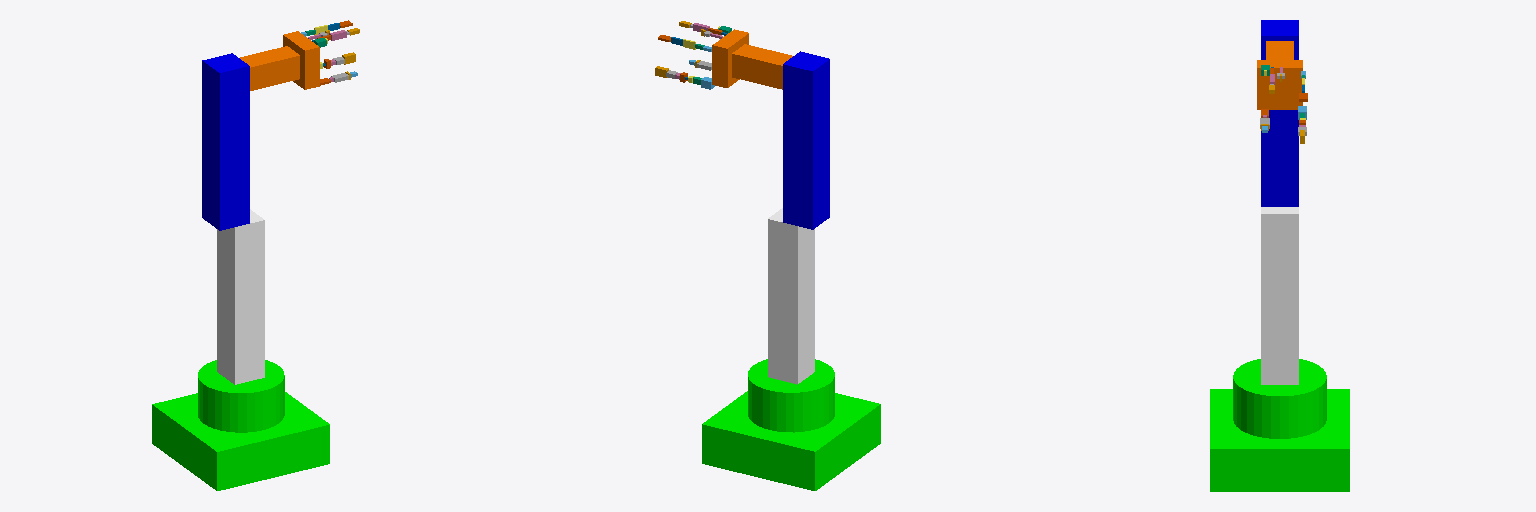
--- Render facts (derived) ---
The picture shows the robot from 3 angles, left to right: view 1: azimuth 30°, elevation 25°; view 2: azimuth 150°, elevation 25°; view 3: azimuth 270°, elevation 25°; orthographic projection.
Robot: robot — 33 links, 32 joints (29 revolute, 1 continuous, 2 fixed); root link base_link; default pose: every joint at zero.
Links seen in each view (by area): view 1: base_link, arm_link, support_link, wrist_link, palm_link; view 2: base_link, arm_link, support_link, wrist_link, palm_link; view 3: base_link, support_link, arm_link, palm_link, wrist_link.
Link boxes in pixels (x1,y1,x2,y2): base_link: [152, 360, 329, 490]; arm_link: [202, 53, 249, 230]; support_link: [217, 209, 264, 384]; wrist_link: [240, 46, 299, 90]; palm_link: [283, 31, 319, 89]; base_link: [702, 359, 880, 490]; arm_link: [783, 51, 829, 229]; support_link: [768, 208, 814, 384]; wrist_link: [732, 44, 792, 89]; palm_link: [712, 29, 748, 87]; base_link: [1210, 359, 1349, 491]; support_link: [1261, 207, 1298, 384]; arm_link: [1261, 20, 1298, 206]; palm_link: [1257, 60, 1302, 109]; wrist_link: [1266, 41, 1293, 59].
Bounding box of the posed robot: 1.2 × 0.75 × 2.54 m (x, y, z).
Geometry: primitives only (box / cylinder / sphere), no mesh files.

URDF robot description (robot):
<?xml version='1.0' encoding='utf-8'?>
<robot name="robot">
  <link name="base_link">
    <visual>
      <origin xyz="0 0 0.125" rpy="0 0 0" />
      <geometry>
        <box size="0.75 0.75 0.25" />
      </geometry>
      <material name="green" />
    </visual>
    <visual>
      <origin xyz="0 0 0.375" rpy="0 0 0" />
      <geometry>
        <cylinder length="0.25" radius="0.25" />
      </geometry>
      <material name="green">
        <color rgba="0 1 0 1" />
      </material>
    </visual>
    <collision>
      <geometry>
        <box size="0.75 0.75 0.5" />
      </geometry>
    </collision>
    <inertial>
      <mass value="0.5" />
      <inertia ixx="0.034" ixy="0.0" ixz="0.0" iyy="0.034" iyz="0.0" izz="0.034" />
    </inertial>
  </link>
  <link name="support_link">
    <visual>
      <origin xyz="0 0 0.5" rpy="0 0 0" />
      <geometry>
        <box size="0.2 0.2 1" />
      </geometry>
      <material name="white">
        <color rgba="1 1 1 1" />
      </material>
    </visual>
    <collision>
      <geometry>
        <box size="0.2 0.2 1" />
      </geometry>
    </collision>
    <inertial>
      <mass value="0.1" />
      <inertia ixx="0.01" ixy="0.0" ixz="0.0" iyy="0.01" iyz="0.0" izz="0.01" />
    </inertial>
  </link>
  <joint name="support_joint" type="continuous">
    <origin xyz="0 0 0.5" rpy="0 0 0" />
    <parent link="base_link" />
    <child link="support_link" />
    <axis xyz="0 0 1" />
  </joint>
  <link name="arm_link">
    <visual>
      <origin xyz="0 0 0.5" rpy="0 0 0" />
      <geometry>
        <box size="0.2 0.2 1" />
      </geometry>
      <material name="blue">
        <color rgba="0 0 1 1" />
      </material>
    </visual>
    <collision>
      <geometry>
        <box size="0.2 0.2 1" />
      </geometry>
    </collision>
    <inertial>
      <mass value="0.1" />
      <inertia ixx="0.01" ixy="0.0" ixz="0.0" iyy="0.01" iyz="0.0" izz="0.01" />
    </inertial>
  </link>
  <joint name="arm_joint" type="revolute">
    <origin xyz="-0.1 0 1" rpy="0 0 0" />
    <parent link="support_link" />
    <child link="arm_link" />
    <axis xyz="0 1 0" />
    <limit lower="-3.14" upper="3.14" effort="1.0" velocity="1.0" />
  </joint>
  <link name="wrist_link">
    <visual>
      <origin xyz="0 0 0.25" rpy="0 0 0" />
      <geometry>
        <box size="0.15 0.15 0.5" />
      </geometry>
      <material name="orange">
        <color rgba="1 0.5 0 1" />
      </material>
    </visual>
    <collision>
      <geometry>
        <box size="0.15 0.15 0.5" />
      </geometry>
    </collision>
    <inertial>
      <mass value="0.1" />
      <inertia ixx="0.01" ixy="0.0" ixz="0.0" iyy="0.01" iyz="0.0" izz="0.01" />
    </inertial>
  </link>
  <joint name="wrist_joint" type="fixed">
    <origin xyz="0 0 0.9" rpy="0 1.571 0" />
    <parent link="arm_link" />
    <child link="wrist_link" />
  </joint>
  <link name="palm_link">
    <visual>
      <origin xyz="0 0 0.05" rpy="0 0 0" />
      <geometry>
        <box size="0.25 0.25 0.1" />
      </geometry>
      <material name="orange" />
    </visual>
    <collision>
      <geometry>
        <box size="0.25 0.25 0.1" />
      </geometry>
    </collision>
    <inertial>
      <mass value="0.1" />
      <inertia ixx="0.01" ixy="0.0" ixz="0.0" iyy="0.01" iyz="0.0" izz="0.01" />
    </inertial>
  </link>
  <joint name="palm_joint" type="fixed">
    <origin xyz="0 0 0.45" rpy="0 0 0" />
    <parent link="wrist_link" />
    <child link="palm_link" />
  </joint>
  <link name="finger_link_0_0">
    <visual>
      <origin xyz="0 0 0.0445" rpy="0 0 0" />
      <geometry>
        <box size="0.013 0.047 0.089" />
      </geometry>
    </visual>
    <collision>
      <geometry>
        <box size="0.013 0.047 0.089" />
      </geometry>
    </collision>
    <inertial>
      <mass value="0.016" />
      <inertia ixx="0.0" iyy="0.0" izz="0.0" ixy="0" ixz="0" iyz="0" />
    </inertial>
  </link>
  <joint name="finger_joint_palm_link_to_finger_link_0_0" type="revolute">
    <origin xyz="0.125 -0.08 0.1" rpy="0 0 0" />
    <parent link="palm_link" />
    <child link="finger_link_0_0" />
    <axis xyz="1.0 1.0 0.0" />
    <limit lower="-3.142" upper="3.142" effort="10" velocity="10" />
  </joint>
  <link name="finger_link_0_1">
    <visual>
      <origin xyz="0 0 0.013" rpy="0 0 0" />
      <geometry>
        <box size="0.025 0.017 0.026" />
      </geometry>
    </visual>
    <collision>
      <geometry>
        <box size="0.025 0.017 0.026" />
      </geometry>
    </collision>
    <inertial>
      <mass value="0.003" />
      <inertia ixx="0.0" iyy="0.0" izz="0.0" ixy="0" ixz="0" iyz="0" />
    </inertial>
  </link>
  <joint name="finger_joint_finger_link_0_0_to_finger_link_0_1" type="revolute">
    <origin xyz="0.0 0.0 0.089" rpy="0 0 0" />
    <parent link="finger_link_0_0" />
    <child link="finger_link_0_1" />
    <axis xyz="1.0 0.0 0.0" />
    <limit lower="-3.142" upper="3.142" effort="10" velocity="10" />
  </joint>
  <link name="finger_link_0_2">
    <visual>
      <origin xyz="0 0 0.046" rpy="0 0 0" />
      <geometry>
        <box size="0.023 0.05 0.092" />
      </geometry>
    </visual>
    <collision>
      <geometry>
        <box size="0.023 0.05 0.092" />
      </geometry>
    </collision>
    <inertial>
      <mass value="0.032" />
      <inertia ixx="0.0" iyy="0.0" izz="0.0" ixy="0" ixz="0" iyz="0" />
    </inertial>
  </link>
  <joint name="finger_joint_finger_link_0_1_to_finger_link_0_2" type="revolute">
    <origin xyz="0.0 0.0 0.026" rpy="0 0 0" />
    <parent link="finger_link_0_1" />
    <child link="finger_link_0_2" />
    <axis xyz="1.0 1.0 0.0" />
    <limit lower="-3.142" upper="3.142" effort="10" velocity="10" />
  </joint>
  <link name="finger_link_0_3">
    <visual>
      <origin xyz="0 0 0.0065" rpy="0 0 0" />
      <geometry>
        <box size="0.036 0.039 0.013" />
      </geometry>
    </visual>
    <collision>
      <geometry>
        <box size="0.036 0.039 0.013" />
      </geometry>
    </collision>
    <inertial>
      <mass value="0.005" />
      <inertia ixx="0.0" iyy="0.0" izz="0.0" ixy="0" ixz="0" iyz="0" />
    </inertial>
  </link>
  <joint name="finger_joint_finger_link_0_2_to_finger_link_0_3" type="revolute">
    <origin xyz="0.0 0.0 0.092" rpy="0 0 0" />
    <parent link="finger_link_0_2" />
    <child link="finger_link_0_3" />
    <axis xyz="0.0 1.0 0.0" />
    <limit lower="-3.142" upper="3.142" effort="10" velocity="10" />
  </joint>
  <link name="finger_link_0_4">
    <visual>
      <origin xyz="0 0 0.024" rpy="0 0 0" />
      <geometry>
        <box size="0.02 0.027 0.048" />
      </geometry>
    </visual>
    <collision>
      <geometry>
        <box size="0.02 0.027 0.048" />
      </geometry>
    </collision>
    <inertial>
      <mass value="0.008" />
      <inertia ixx="0.0" iyy="0.0" izz="0.0" ixy="0" ixz="0" iyz="0" />
    </inertial>
  </link>
  <joint name="finger_joint_finger_link_0_3_to_finger_link_0_4" type="revolute">
    <origin xyz="0.0 0.0 0.013" rpy="0 0 0" />
    <parent link="finger_link_0_3" />
    <child link="finger_link_0_4" />
    <axis xyz="0.0 1.0 0.0" />
    <limit lower="-3.142" upper="3.142" effort="10" velocity="10" />
  </joint>
  <link name="finger_link_1_0">
    <visual>
      <origin xyz="0 0 0.0315" rpy="0 0 0" />
      <geometry>
        <box size="0.035 0.046 0.063" />
      </geometry>
    </visual>
    <collision>
      <geometry>
        <box size="0.035 0.046 0.063" />
      </geometry>
    </collision>
    <inertial>
      <mass value="0.03" />
      <inertia ixx="0.0" iyy="0.0" izz="0.0" ixy="0" ixz="0" iyz="0" />
    </inertial>
  </link>
  <joint name="finger_joint_palm_link_to_finger_link_1_0" type="revolute">
    <origin xyz="-0.125 -0.078 0.1" rpy="0 0 0" />
    <parent link="palm_link" />
    <child link="finger_link_1_0" />
    <axis xyz="1.0 1.0 0.0" />
    <limit lower="-3.142" upper="3.142" effort="10" velocity="10" />
  </joint>
  <link name="finger_link_1_1">
    <visual>
      <origin xyz="0 0 0.0065" rpy="0 0 0" />
      <geometry>
        <box size="0.03 0.019 0.013" />
      </geometry>
    </visual>
    <collision>
      <geometry>
        <box size="0.03 0.019 0.013" />
      </geometry>
    </collision>
    <inertial>
      <mass value="0.002" />
      <inertia ixx="0.0" iyy="0.0" izz="0.0" ixy="0" ixz="0" iyz="0" />
    </inertial>
  </link>
  <joint name="finger_joint_finger_link_1_0_to_finger_link_1_1" type="revolute">
    <origin xyz="0.0 0.0 0.063" rpy="0 0 0" />
    <parent link="finger_link_1_0" />
    <child link="finger_link_1_1" />
    <axis xyz="1.0 1.0 0.0" />
    <limit lower="-3.142" upper="3.142" effort="10" velocity="10" />
  </joint>
  <link name="finger_link_2_0">
    <visual>
      <origin xyz="0 0 0.0165" rpy="0 0 0" />
      <geometry>
        <box size="0.012 0.016 0.033" />
      </geometry>
    </visual>
    <collision>
      <geometry>
        <box size="0.012 0.016 0.033" />
      </geometry>
    </collision>
    <inertial>
      <mass value="0.002" />
      <inertia ixx="0.0" iyy="0.0" izz="0.0" ixy="0" ixz="0" iyz="0" />
    </inertial>
  </link>
  <joint name="finger_joint_palm_link_to_finger_link_2_0" type="revolute">
    <origin xyz="-0.125 -0.042 0.1" rpy="0 0 0" />
    <parent link="palm_link" />
    <child link="finger_link_2_0" />
    <axis xyz="0.0 1.0 0.0" />
    <limit lower="-3.142" upper="3.142" effort="10" velocity="10" />
  </joint>
  <link name="finger_link_2_1">
    <visual>
      <origin xyz="0 0 0.043" rpy="0 0 0" />
      <geometry>
        <box size="0.025 0.018 0.086" />
      </geometry>
    </visual>
    <collision>
      <geometry>
        <box size="0.025 0.018 0.086" />
      </geometry>
    </collision>
    <inertial>
      <mass value="0.012" />
      <inertia ixx="0.0" iyy="0.0" izz="0.0" ixy="0" ixz="0" iyz="0" />
    </inertial>
  </link>
  <joint name="finger_joint_finger_link_2_0_to_finger_link_2_1" type="revolute">
    <origin xyz="0.0 0.0 0.033" rpy="0 0 0" />
    <parent link="finger_link_2_0" />
    <child link="finger_link_2_1" />
    <axis xyz="1.0 0.0 0.0" />
    <limit lower="-3.142" upper="3.142" effort="10" velocity="10" />
  </joint>
  <link name="finger_link_2_2">
    <visual>
      <origin xyz="0 0 0.049" rpy="0 0 0" />
      <geometry>
        <box size="0.039 0.027 0.098" />
      </geometry>
    </visual>
    <collision>
      <geometry>
        <box size="0.039 0.027 0.098" />
      </geometry>
    </collision>
    <inertial>
      <mass value="0.031" />
      <inertia ixx="0.0" iyy="0.0" izz="0.0" ixy="0" ixz="0" iyz="0" />
    </inertial>
  </link>
  <joint name="finger_joint_finger_link_2_1_to_finger_link_2_2" type="revolute">
    <origin xyz="0.0 0.0 0.086" rpy="0 0 0" />
    <parent link="finger_link_2_1" />
    <child link="finger_link_2_2" />
    <axis xyz="1.0 0.0 0.0" />
    <limit lower="-3.142" upper="3.142" effort="10" velocity="10" />
  </joint>
  <link name="finger_link_2_3">
    <visual>
      <origin xyz="0 0 0.0115" rpy="0 0 0" />
      <geometry>
        <box size="0.015 0.021 0.023" />
      </geometry>
    </visual>
    <collision>
      <geometry>
        <box size="0.015 0.021 0.023" />
      </geometry>
    </collision>
    <inertial>
      <mass value="0.002" />
      <inertia ixx="0.0" iyy="0.0" izz="0.0" ixy="0" ixz="0" iyz="0" />
    </inertial>
  </link>
  <joint name="finger_joint_finger_link_2_2_to_finger_link_2_3" type="revolute">
    <origin xyz="0.0 0.0 0.098" rpy="0 0 0" />
    <parent link="finger_link_2_2" />
    <child link="finger_link_2_3" />
    <axis xyz="0.0 1.0 0.0" />
    <limit lower="-3.142" upper="3.142" effort="10" velocity="10" />
  </joint>
  <link name="finger_link_2_4">
    <visual>
      <origin xyz="0 0 0.0325" rpy="0 0 0" />
      <geometry>
        <box size="0.023 0.031 0.065" />
      </geometry>
    </visual>
    <collision>
      <geometry>
        <box size="0.023 0.031 0.065" />
      </geometry>
    </collision>
    <inertial>
      <mass value="0.014" />
      <inertia ixx="0.0" iyy="0.0" izz="0.0" ixy="0" ixz="0" iyz="0" />
    </inertial>
  </link>
  <joint name="finger_joint_finger_link_2_3_to_finger_link_2_4" type="revolute">
    <origin xyz="0.0 0.0 0.023" rpy="0 0 0" />
    <parent link="finger_link_2_3" />
    <child link="finger_link_2_4" />
    <axis xyz="0.0 1.0 0.0" />
    <limit lower="-3.142" upper="3.142" effort="10" velocity="10" />
  </joint>
  <link name="finger_link_3_0">
    <visual>
      <origin xyz="0 0 0.0335" rpy="0 0 0" />
      <geometry>
        <box size="0.049 0.049 0.067" />
      </geometry>
    </visual>
    <collision>
      <geometry>
        <box size="0.049 0.049 0.067" />
      </geometry>
    </collision>
    <inertial>
      <mass value="0.048" />
      <inertia ixx="0.0" iyy="0.0" izz="0.0" ixy="0" ixz="0" iyz="0" />
    </inertial>
  </link>
  <joint name="finger_joint_palm_link_to_finger_link_3_0" type="revolute">
    <origin xyz="0.125 0.12 0.1" rpy="0 0 0" />
    <parent link="palm_link" />
    <child link="finger_link_3_0" />
    <axis xyz="0.0 1.0 0.0" />
    <limit lower="-3.142" upper="3.142" effort="10" velocity="10" />
  </joint>
  <link name="finger_link_3_1">
    <visual>
      <origin xyz="0 0 0.0295" rpy="0 0 0" />
      <geometry>
        <box size="0.033 0.027 0.059" />
      </geometry>
    </visual>
    <collision>
      <geometry>
        <box size="0.033 0.027 0.059" />
      </geometry>
    </collision>
    <inertial>
      <mass value="0.016" />
      <inertia ixx="0.0" iyy="0.0" izz="0.0" ixy="0" ixz="0" iyz="0" />
    </inertial>
  </link>
  <joint name="finger_joint_finger_link_3_0_to_finger_link_3_1" type="revolute">
    <origin xyz="0.0 0.0 0.067" rpy="0 0 0" />
    <parent link="finger_link_3_0" />
    <child link="finger_link_3_1" />
    <axis xyz="0.0 1.0 0.0" />
    <limit lower="-3.142" upper="3.142" effort="10" velocity="10" />
  </joint>
  <link name="finger_link_3_2">
    <visual>
      <origin xyz="0 0 0.0145" rpy="0 0 0" />
      <geometry>
        <box size="0.03 0.032 0.029" />
      </geometry>
    </visual>
    <collision>
      <geometry>
        <box size="0.03 0.032 0.029" />
      </geometry>
    </collision>
    <inertial>
      <mass value="0.008" />
      <inertia ixx="0.0" iyy="0.0" izz="0.0" ixy="0" ixz="0" iyz="0" />
    </inertial>
  </link>
  <joint name="finger_joint_finger_link_3_1_to_finger_link_3_2" type="revolute">
    <origin xyz="0.0 0.0 0.059" rpy="0 0 0" />
    <parent link="finger_link_3_1" />
    <child link="finger_link_3_2" />
    <axis xyz="1.0 0.0 0.0" />
    <limit lower="-3.142" upper="3.142" effort="10" velocity="10" />
  </joint>
  <link name="finger_link_3_3">
    <visual>
      <origin xyz="0 0 0.011" rpy="0 0 0" />
      <geometry>
        <box size="0.012 0.02 0.022" />
      </geometry>
    </visual>
    <collision>
      <geometry>
        <box size="0.012 0.02 0.022" />
      </geometry>
    </collision>
    <inertial>
      <mass value="0.002" />
      <inertia ixx="0.0" iyy="0.0" izz="0.0" ixy="0" ixz="0" iyz="0" />
    </inertial>
  </link>
  <joint name="finger_joint_finger_link_3_2_to_finger_link_3_3" type="revolute">
    <origin xyz="0.0 0.0 0.029" rpy="0 0 0" />
    <parent link="finger_link_3_2" />
    <child link="finger_link_3_3" />
    <axis xyz="0.0 1.0 0.0" />
    <limit lower="-3.142" upper="3.142" effort="10" velocity="10" />
  </joint>
  <link name="finger_link_3_4">
    <visual>
      <origin xyz="0 0 0.0145" rpy="0 0 0" />
      <geometry>
        <box size="0.047 0.036 0.029" />
      </geometry>
    </visual>
    <collision>
      <geometry>
        <box size="0.047 0.036 0.029" />
      </geometry>
    </collision>
    <inertial>
      <mass value="0.015" />
      <inertia ixx="0.0" iyy="0.0" izz="0.0" ixy="0" ixz="0" iyz="0" />
    </inertial>
  </link>
  <joint name="finger_joint_finger_link_3_3_to_finger_link_3_4" type="revolute">
    <origin xyz="0.0 0.0 0.022" rpy="0 0 0" />
    <parent link="finger_link_3_3" />
    <child link="finger_link_3_4" />
    <axis xyz="1.0 0.0 0.0" />
    <limit lower="-3.142" upper="3.142" effort="10" velocity="10" />
  </joint>
  <link name="finger_link_3_5">
    <visual>
      <origin xyz="0 0 0.0175" rpy="0 0 0" />
      <geometry>
        <box size="0.021 0.035 0.035" />
      </geometry>
    </visual>
    <collision>
      <geometry>
        <box size="0.021 0.035 0.035" />
      </geometry>
    </collision>
    <inertial>
      <mass value="0.008" />
      <inertia ixx="0.0" iyy="0.0" izz="0.0" ixy="0" ixz="0" iyz="0" />
    </inertial>
  </link>
  <joint name="finger_joint_finger_link_3_4_to_finger_link_3_5" type="revolute">
    <origin xyz="0.0 0.0 0.029" rpy="0 0 0" />
    <parent link="finger_link_3_4" />
    <child link="finger_link_3_5" />
    <axis xyz="0.0 1.0 0.0" />
    <limit lower="-3.142" upper="3.142" effort="10" velocity="10" />
  </joint>
  <link name="finger_link_3_6">
    <visual>
      <origin xyz="0 0 0.028" rpy="0 0 0" />
      <geometry>
        <box size="0.026 0.043 0.056" />
      </geometry>
    </visual>
    <collision>
      <geometry>
        <box size="0.026 0.043 0.056" />
      </geometry>
    </collision>
    <inertial>
      <mass value="0.019" />
      <inertia ixx="0.0" iyy="0.0" izz="0.0" ixy="0" ixz="0" iyz="0" />
    </inertial>
  </link>
  <joint name="finger_joint_finger_link_3_5_to_finger_link_3_6" type="revolute">
    <origin xyz="0.0 0.0 0.035" rpy="0 0 0" />
    <parent link="finger_link_3_5" />
    <child link="finger_link_3_6" />
    <axis xyz="1.0 1.0 0.0" />
    <limit lower="-3.142" upper="3.142" effort="10" velocity="10" />
  </joint>
  <link name="finger_link_3_7">
    <visual>
      <origin xyz="0 0 0.038" rpy="0 0 0" />
      <geometry>
        <box size="0.049 0.031 0.076" />
      </geometry>
    </visual>
    <collision>
      <geometry>
        <box size="0.049 0.031 0.076" />
      </geometry>
    </collision>
    <inertial>
      <mass value="0.035" />
      <inertia ixx="0.0" iyy="0.0" izz="0.0" ixy="0" ixz="0" iyz="0" />
    </inertial>
  </link>
  <joint name="finger_joint_finger_link_3_6_to_finger_link_3_7" type="revolute">
    <origin xyz="0.0 0.0 0.056" rpy="0 0 0" />
    <parent link="finger_link_3_6" />
    <child link="finger_link_3_7" />
    <axis xyz="0.0 1.0 0.0" />
    <limit lower="-3.142" upper="3.142" effort="10" velocity="10" />
  </joint>
  <link name="finger_link_4_0">
    <visual>
      <origin xyz="0 0 0.027" rpy="0 0 0" />
      <geometry>
        <box size="0.018 0.027 0.054" />
      </geometry>
    </visual>
    <collision>
      <geometry>
        <box size="0.018 0.027 0.054" />
      </geometry>
    </collision>
    <inertial>
      <mass value="0.008" />
      <inertia ixx="0.0" iyy="0.0" izz="0.0" ixy="0" ixz="0" iyz="0" />
    </inertial>
  </link>
  <joint name="finger_joint_palm_link_to_finger_link_4_0" type="revolute">
    <origin xyz="-0.095 0.125 0.1" rpy="0 0 0" />
    <parent link="palm_link" />
    <child link="finger_link_4_0" />
    <axis xyz="1.0 1.0 0.0" />
    <limit lower="-3.142" upper="3.142" effort="10" velocity="10" />
  </joint>
  <link name="finger_link_4_1">
    <visual>
      <origin xyz="0 0 0.0285" rpy="0 0 0" />
      <geometry>
        <box size="0.023 0.018 0.057" />
      </geometry>
    </visual>
    <collision>
      <geometry>
        <box size="0.023 0.018 0.057" />
      </geometry>
    </collision>
    <inertial>
      <mass value="0.007" />
      <inertia ixx="0.0" iyy="0.0" izz="0.0" ixy="0" ixz="0" iyz="0" />
    </inertial>
  </link>
  <joint name="finger_joint_finger_link_4_0_to_finger_link_4_1" type="revolute">
    <origin xyz="0.0 0.0 0.054" rpy="0 0 0" />
    <parent link="finger_link_4_0" />
    <child link="finger_link_4_1" />
    <axis xyz="0.0 1.0 0.0" />
    <limit lower="-3.142" upper="3.142" effort="10" velocity="10" />
  </joint>
  <link name="finger_link_4_2">
    <visual>
      <origin xyz="0 0 0.041" rpy="0 0 0" />
      <geometry>
        <box size="0.046 0.012 0.082" />
      </geometry>
    </visual>
    <collision>
      <geometry>
        <box size="0.046 0.012 0.082" />
      </geometry>
    </collision>
    <inertial>
      <mass value="0.014" />
      <inertia ixx="0.0" iyy="0.0" izz="0.0" ixy="0" ixz="0" iyz="0" />
    </inertial>
  </link>
  <joint name="finger_joint_finger_link_4_1_to_finger_link_4_2" type="revolute">
    <origin xyz="0.0 0.0 0.057" rpy="0 0 0" />
    <parent link="finger_link_4_1" />
    <child link="finger_link_4_2" />
    <axis xyz="1.0 0.0 0.0" />
    <limit lower="-3.142" upper="3.142" effort="10" velocity="10" />
  </joint>
  <link name="finger_link_4_3">
    <visual>
      <origin xyz="0 0 0.039" rpy="0 0 0" />
      <geometry>
        <box size="0.037 0.013 0.078" />
      </geometry>
    </visual>
    <collision>
      <geometry>
        <box size="0.037 0.013 0.078" />
      </geometry>
    </collision>
    <inertial>
      <mass value="0.011" />
      <inertia ixx="0.0" iyy="0.0" izz="0.0" ixy="0" ixz="0" iyz="0" />
    </inertial>
  </link>
  <joint name="finger_joint_finger_link_4_2_to_finger_link_4_3" type="revolute">
    <origin xyz="0.0 0.0 0.082" rpy="0 0 0" />
    <parent link="finger_link_4_2" />
    <child link="finger_link_4_3" />
    <axis xyz="0.0 1.0 0.0" />
    <limit lower="-3.142" upper="3.142" effort="10" velocity="10" />
  </joint>
  <link name="finger_link_4_4">
    <visual>
      <origin xyz="0 0 0.0385" rpy="0 0 0" />
      <geometry>
        <box size="0.014 0.046 0.077" />
      </geometry>
    </visual>
    <collision>
      <geometry>
        <box size="0.014 0.046 0.077" />
      </geometry>
    </collision>
    <inertial>
      <mass value="0.015" />
      <inertia ixx="0.0" iyy="0.0" izz="0.0" ixy="0" ixz="0" iyz="0" />
    </inertial>
  </link>
  <joint name="finger_joint_finger_link_4_3_to_finger_link_4_4" type="revolute">
    <origin xyz="0.0 0.0 0.078" rpy="0 0 0" />
    <parent link="finger_link_4_3" />
    <child link="finger_link_4_4" />
    <axis xyz="1.0 1.0 0.0" />
    <limit lower="-3.142" upper="3.142" effort="10" velocity="10" />
  </joint>
  <link name="finger_link_5_0">
    <visual>
      <origin xyz="0 0 0.041" rpy="0 0 0" />
      <geometry>
        <box size="0.015 0.015 0.082" />
      </geometry>
    </visual>
    <collision>
      <geometry>
        <box size="0.015 0.015 0.082" />
      </geometry>
    </collision>
    <inertial>
      <mass value="0.006" />
      <inertia ixx="0.0" iyy="0.0" izz="0.0" ixy="0" ixz="0" iyz="0" />
    </inertial>
  </link>
  <joint name="finger_joint_palm_link_to_finger_link_5_0" type="revolute">
    <origin xyz="-0.125 0.006 0.1" rpy="0 0 0" />
    <parent link="palm_link" />
    <child link="finger_link_5_0" />
    <axis xyz="0.0 1.0 0.0" />
    <limit lower="-3.142" upper="3.142" effort="10" velocity="10" />
  </joint>
  <link name="finger_link_5_1">
    <visual>
      <origin xyz="0 0 0.017" rpy="0 0 0" />
      <geometry>
        <box size="0.018 0.039 0.034" />
      </geometry>
    </visual>
    <collision>
      <geometry>
        <box size="0.018 0.039 0.034" />
      </geometry>
    </collision>
    <inertial>
      <mass value="0.007" />
      <inertia ixx="0.0" iyy="0.0" izz="0.0" ixy="0" ixz="0" iyz="0" />
    </inertial>
  </link>
  <joint name="finger_joint_finger_link_5_0_to_finger_link_5_1" type="revolute">
    <origin xyz="0.0 0.0 0.082" rpy="0 0 0" />
    <parent link="finger_link_5_0" />
    <child link="finger_link_5_1" />
    <axis xyz="0.0 1.0 0.0" />
    <limit lower="-3.142" upper="3.142" effort="10" velocity="10" />
  </joint>
  <link name="finger_link_5_2">
    <visual>
      <origin xyz="0 0 0.0125" rpy="0 0 0" />
      <geometry>
        <box size="0.037 0.013 0.025" />
      </geometry>
    </visual>
    <collision>
      <geometry>
        <box size="0.037 0.013 0.025" />
      </geometry>
    </collision>
    <inertial>
      <mass value="0.004" />
      <inertia ixx="0.0" iyy="0.0" izz="0.0" ixy="0" ixz="0" iyz="0" />
    </inertial>
  </link>
  <joint name="finger_joint_finger_link_5_1_to_finger_link_5_2" type="revolute">
    <origin xyz="0.0 0.0 0.034" rpy="0 0 0" />
    <parent link="finger_link_5_1" />
    <child link="finger_link_5_2" />
    <axis xyz="0.0 1.0 0.0" />
    <limit lower="-3.142" upper="3.142" effort="10" velocity="10" />
  </joint>
</robot>
